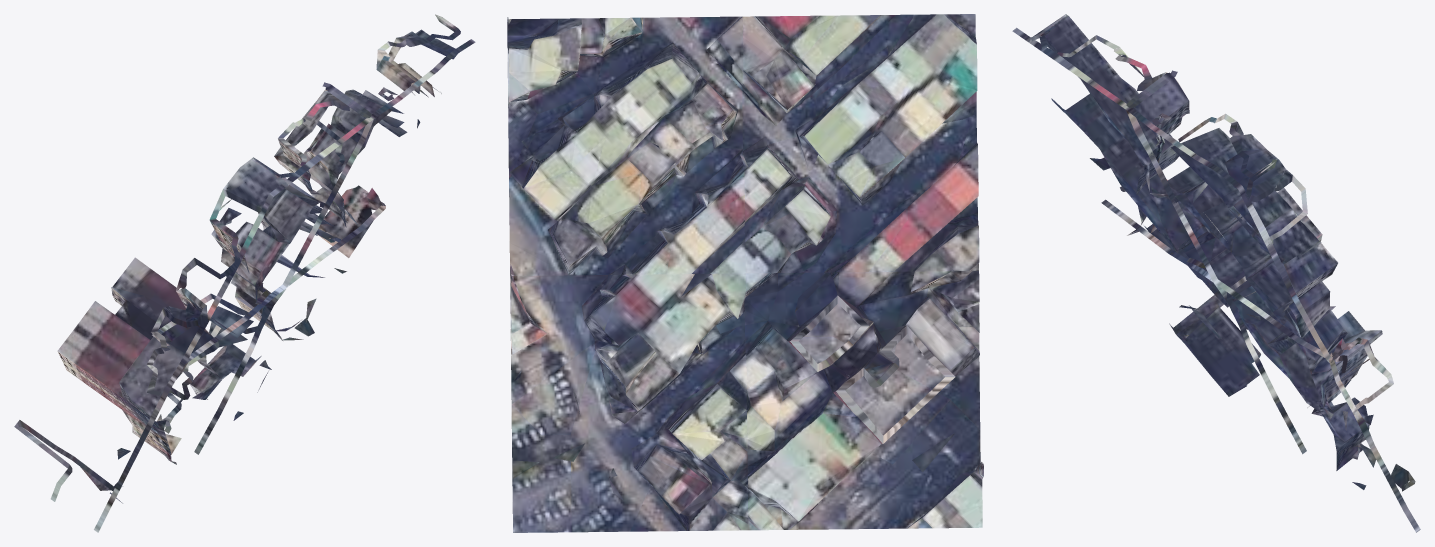
3 views of the same model, side by side, from view 1: azimuth 30°, elevation 25°; view 2: azimuth 150°, elevation 25°; view 3: azimuth 270°, elevation 25° (orthographic). The views are drawn at different scales.
Size of the model in its own units: 170 by 146 by 130.
1 material, 1 textured.
